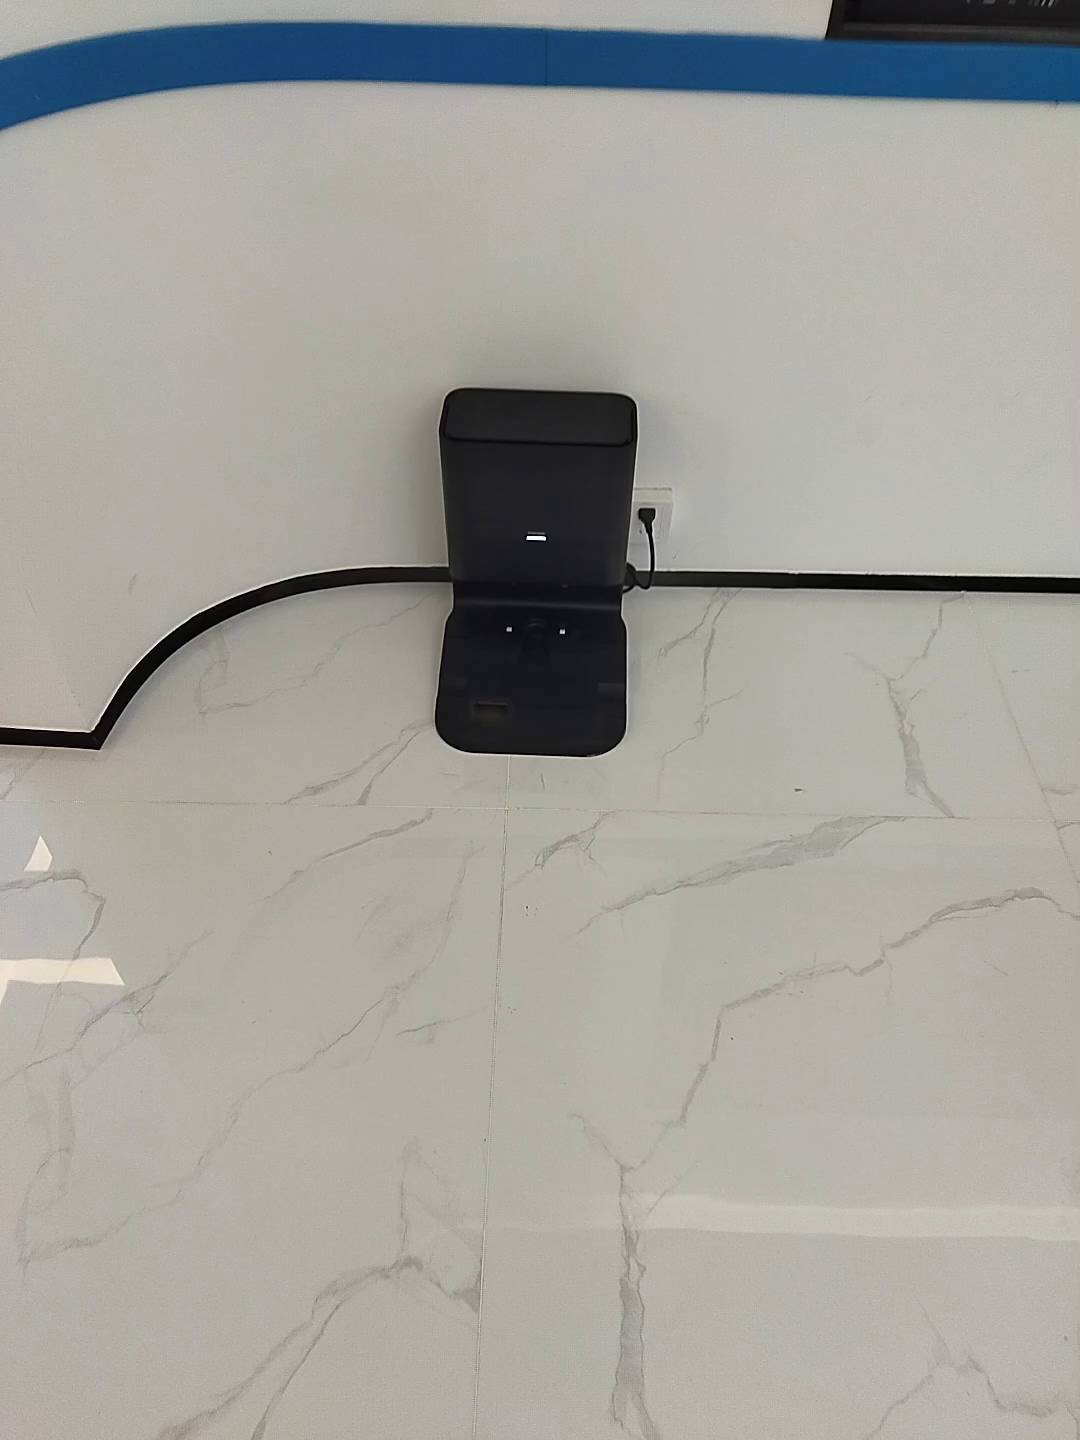dust collecting barrel: (434, 386, 638, 756)
